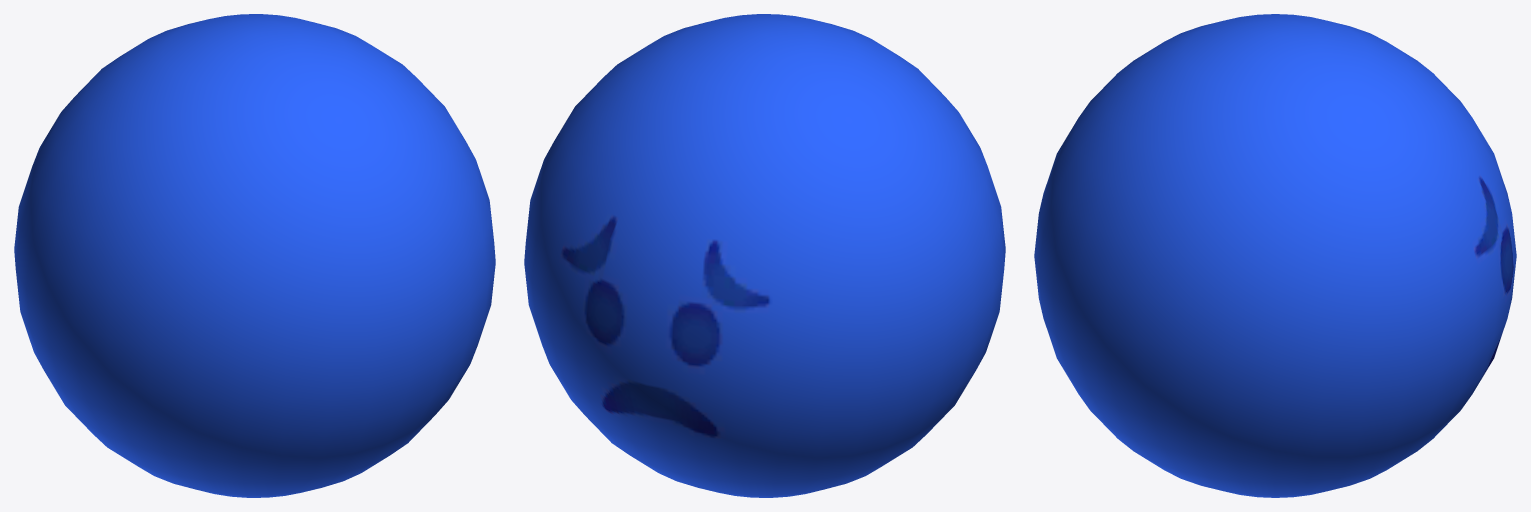
File: Skin_Green_001_00_07_5227.fbx
The picture shows the model from 3 angles, left to right: view 1: azimuth 30°, elevation 25°; view 2: azimuth 150°, elevation 25°; view 3: azimuth 270°, elevation 25°; orthographic projection.
Parts seen in each view (by area): view 1: Ball_Skin_Smile_G_001; view 2: Ball_Skin_Smile_G_001; view 3: Ball_Skin_Smile_G_001.
Boxes of the visible parts, left/top/right/bottom form: Ball_Skin_Smile_G_001: left=14, top=14, right=495, bottom=497; Ball_Skin_Smile_G_001: left=524, top=14, right=1005, bottom=497; Ball_Skin_Smile_G_001: left=1034, top=14, right=1516, bottom=497.
Bounding box in the file's own units: 0.9904 × 1 × 0.9904.
1 material, 1 textured.
